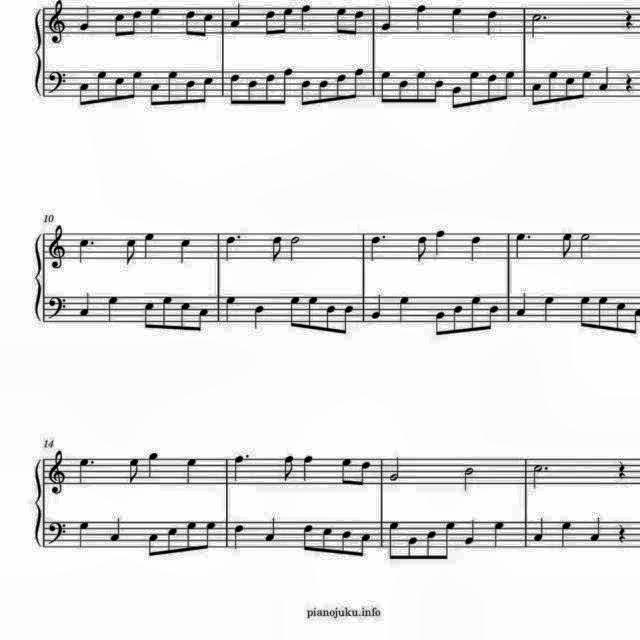Bass-clef: (48, 67, 72, 97), (44, 518, 68, 546), (48, 292, 72, 320)
Eighth-note: (386, 517, 402, 561), (465, 68, 481, 108), (182, 518, 198, 558), (466, 294, 482, 334), (444, 518, 458, 562), (414, 69, 430, 107), (594, 294, 610, 332), (286, 293, 302, 331), (94, 69, 110, 107), (280, 65, 296, 103), (75, 75, 93, 108), (334, 3, 351, 37), (166, 522, 182, 558), (350, 64, 366, 100), (614, 299, 630, 335), (546, 67, 562, 103), (160, 294, 176, 330), (123, 233, 141, 265), (578, 292, 594, 328), (268, 232, 286, 264), (557, 230, 575, 262), (228, 72, 244, 108), (484, 73, 500, 107), (423, 527, 439, 561), (378, 68, 394, 102), (341, 303, 357, 337), (414, 232, 431, 264), (202, 519, 218, 553), (279, 452, 297, 482), (125, 454, 143, 484), (306, 295, 320, 333), (166, 67, 180, 105), (334, 72, 350, 104), (450, 302, 466, 334), (322, 302, 338, 334), (130, 70, 146, 102), (181, 6, 197, 38), (298, 524, 314, 556), (264, 70, 280, 102), (112, 7, 128, 39), (338, 454, 354, 486), (176, 300, 192, 332), (298, 76, 314, 108), (140, 298, 156, 330), (200, 73, 216, 105), (280, 3, 296, 35), (350, 7, 366, 38), (262, 7, 278, 38), (130, 7, 146, 38), (578, 68, 594, 99), (338, 527, 354, 557), (356, 529, 372, 559), (200, 9, 216, 39), (486, 303, 502, 333), (356, 457, 372, 487), (316, 77, 332, 106), (430, 77, 446, 106), (406, 533, 422, 561), (502, 68, 516, 100), (394, 76, 410, 104), (146, 80, 162, 108), (320, 524, 334, 554), (432, 306, 446, 336), (111, 74, 125, 104), (196, 303, 212, 329), (528, 81, 544, 107), (183, 79, 197, 107), (562, 75, 576, 103), (146, 532, 160, 560), (245, 79, 259, 105), (448, 83, 460, 109)
Half-dot: (531, 460, 553, 490), (528, 11, 548, 41)
Half-note: (387, 453, 403, 483), (286, 233, 302, 263), (578, 230, 594, 260), (459, 466, 476, 494)
Quarter-dot: (512, 228, 538, 264), (74, 232, 98, 264), (74, 456, 98, 488), (228, 449, 252, 479), (221, 232, 243, 264), (366, 230, 388, 262)
Quarter-note: (180, 454, 200, 486), (412, 0, 430, 32), (379, 1, 397, 33), (75, 3, 93, 35), (448, 4, 466, 36), (140, 229, 158, 261), (483, 6, 501, 36), (107, 515, 125, 545), (176, 235, 194, 265), (76, 289, 94, 319), (465, 232, 483, 262), (490, 519, 508, 549), (300, 452, 318, 482), (143, 449, 161, 479), (298, 0, 314, 32), (146, 2, 162, 34), (558, 518, 574, 550), (76, 518, 92, 550), (434, 227, 451, 257), (228, 0, 246, 28), (263, 516, 281, 544), (462, 518, 478, 548), (540, 294, 556, 324), (104, 294, 120, 324), (396, 295, 412, 325), (368, 292, 384, 321), (222, 292, 238, 321), (530, 516, 546, 544), (586, 514, 602, 542), (232, 522, 248, 550), (250, 302, 266, 330), (596, 64, 612, 92), (516, 292, 530, 320)
Quarter-rest: (616, 455, 632, 481), (622, 6, 638, 30), (616, 520, 632, 544), (622, 70, 638, 94)
Treble-clef: (46, 447, 70, 497), (48, 220, 72, 270), (44, 0, 68, 46)
